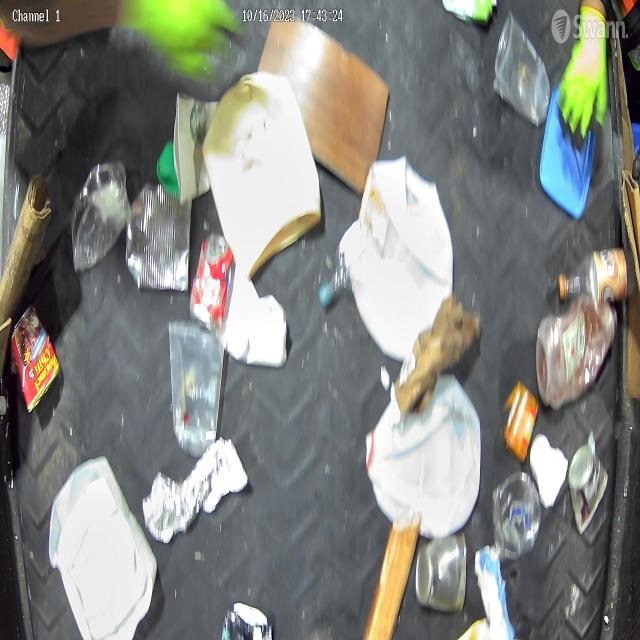can: (125, 180, 195, 298), (9, 304, 61, 414), (191, 228, 240, 332), (415, 530, 468, 616), (568, 442, 610, 536)
milk_jug: (342, 160, 451, 359), (50, 452, 160, 640), (362, 370, 482, 536)
non_white_jug: (536, 308, 618, 412)
plastic_bottle: (558, 250, 628, 306)
